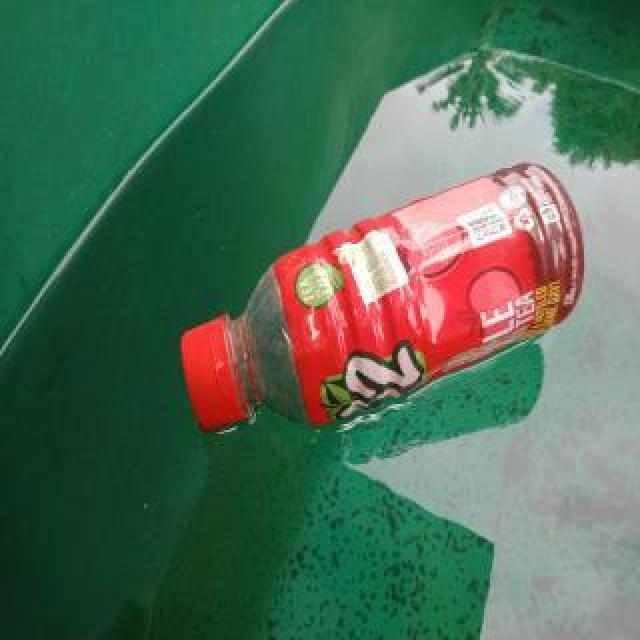bottle: (179, 157, 585, 433)
